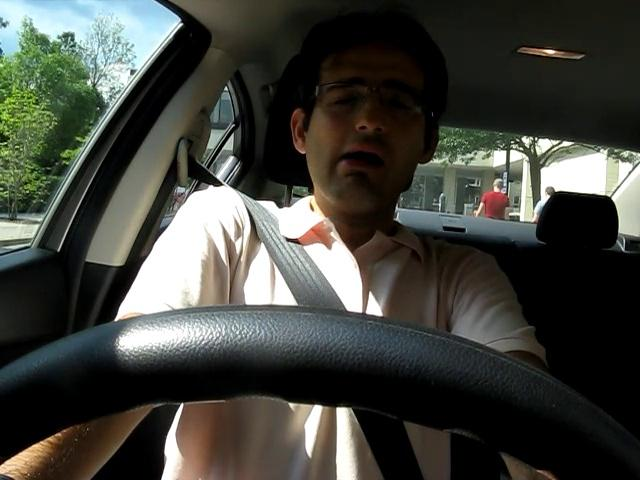close_eyeL: (317, 79, 367, 119)
close_eyeR: (378, 84, 439, 121)
yawn: (323, 137, 404, 181)
